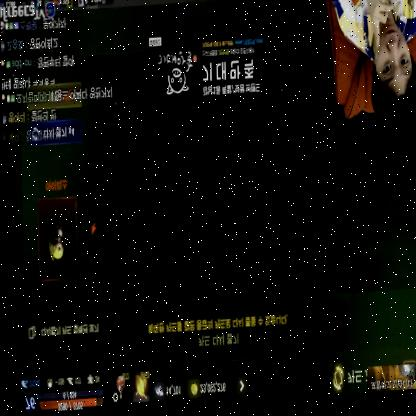streamer: (328, 0, 416, 140)
